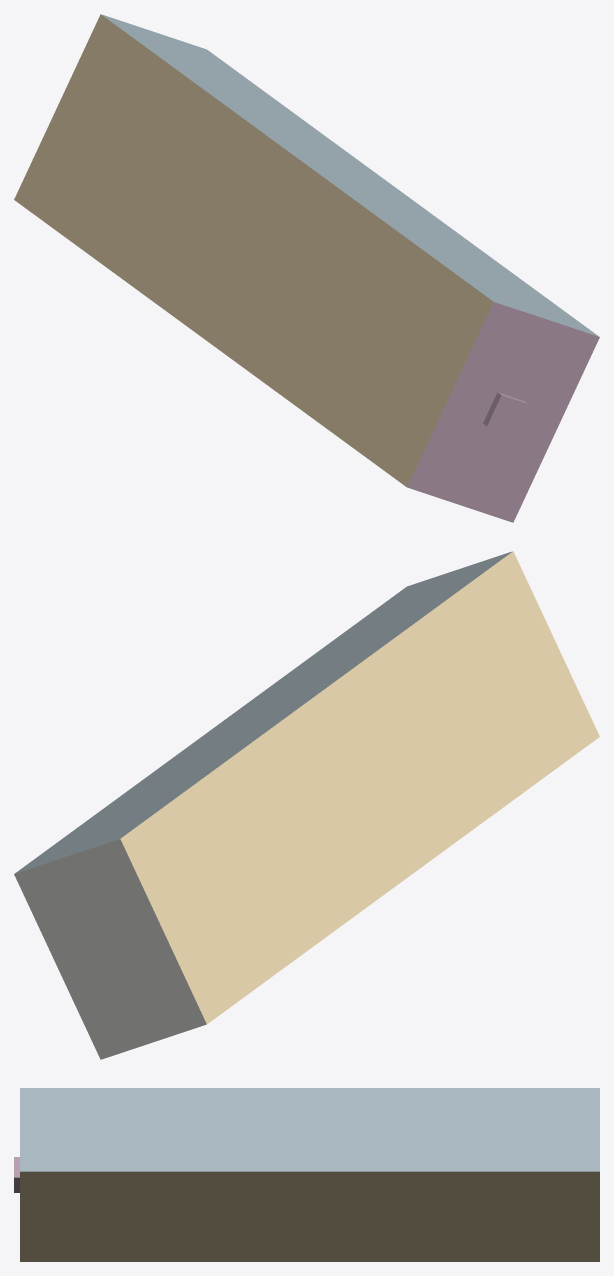
The model's file is doitt-982383__lod_1.glb.
3 renders of one model, top to bottom at view 1: azimuth 30°, elevation 25°; view 2: azimuth 150°, elevation 25°; view 3: azimuth 270°, elevation 25°, orthographic. The views are drawn at different scales.
Bounding box in the file's own units: 32.79 × 36.68 × 117.
